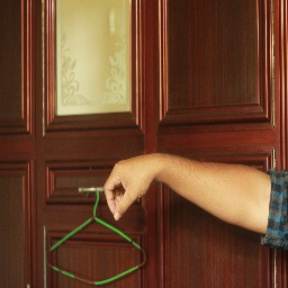O: (102, 152, 164, 221)
